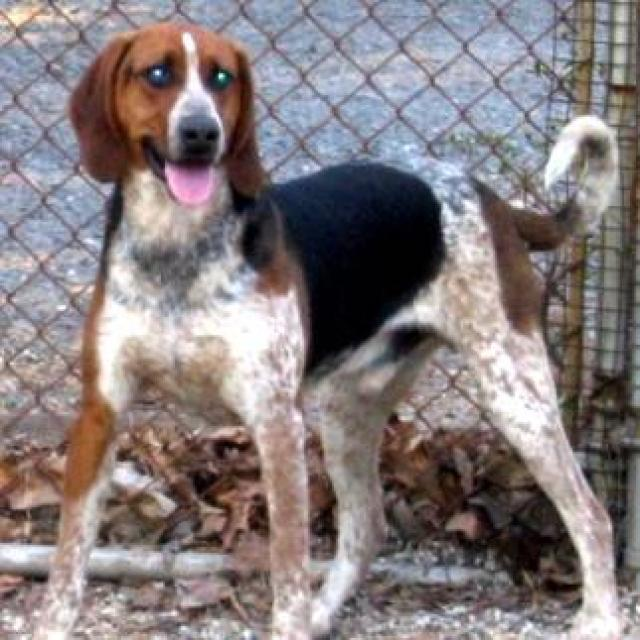Dog: (77, 17, 262, 220)
